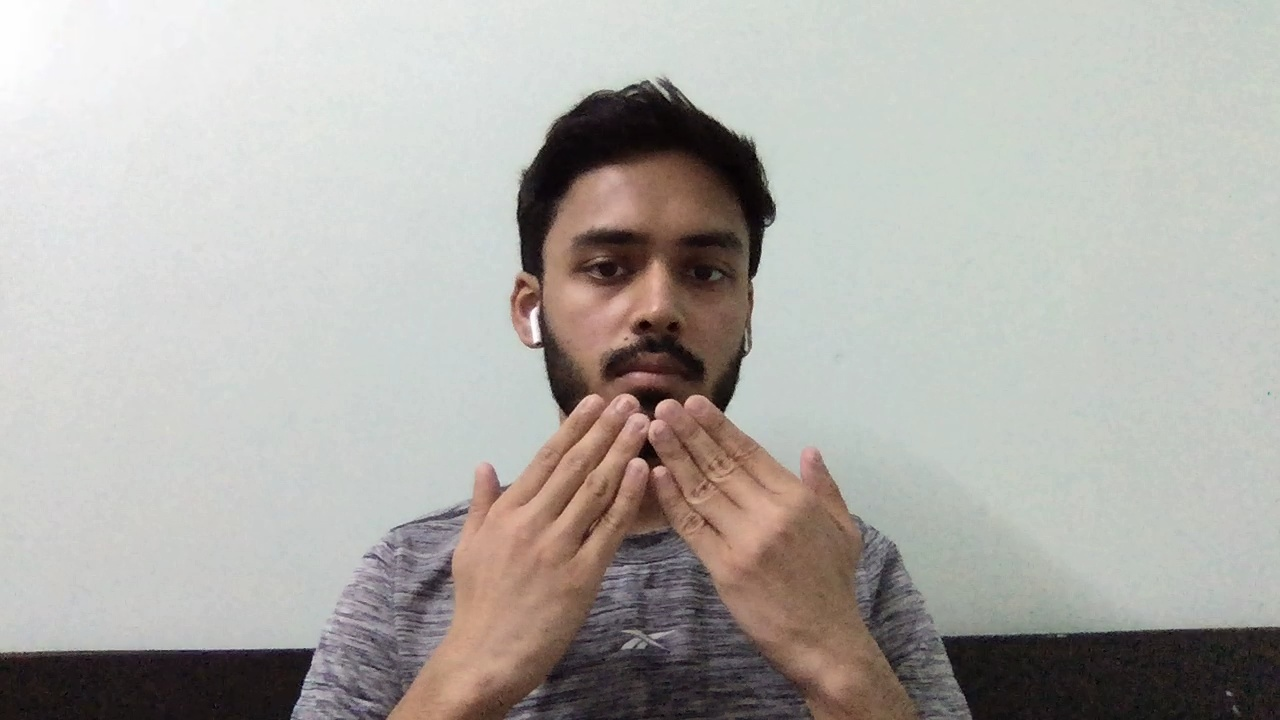Thank You: (420, 387, 908, 679)
